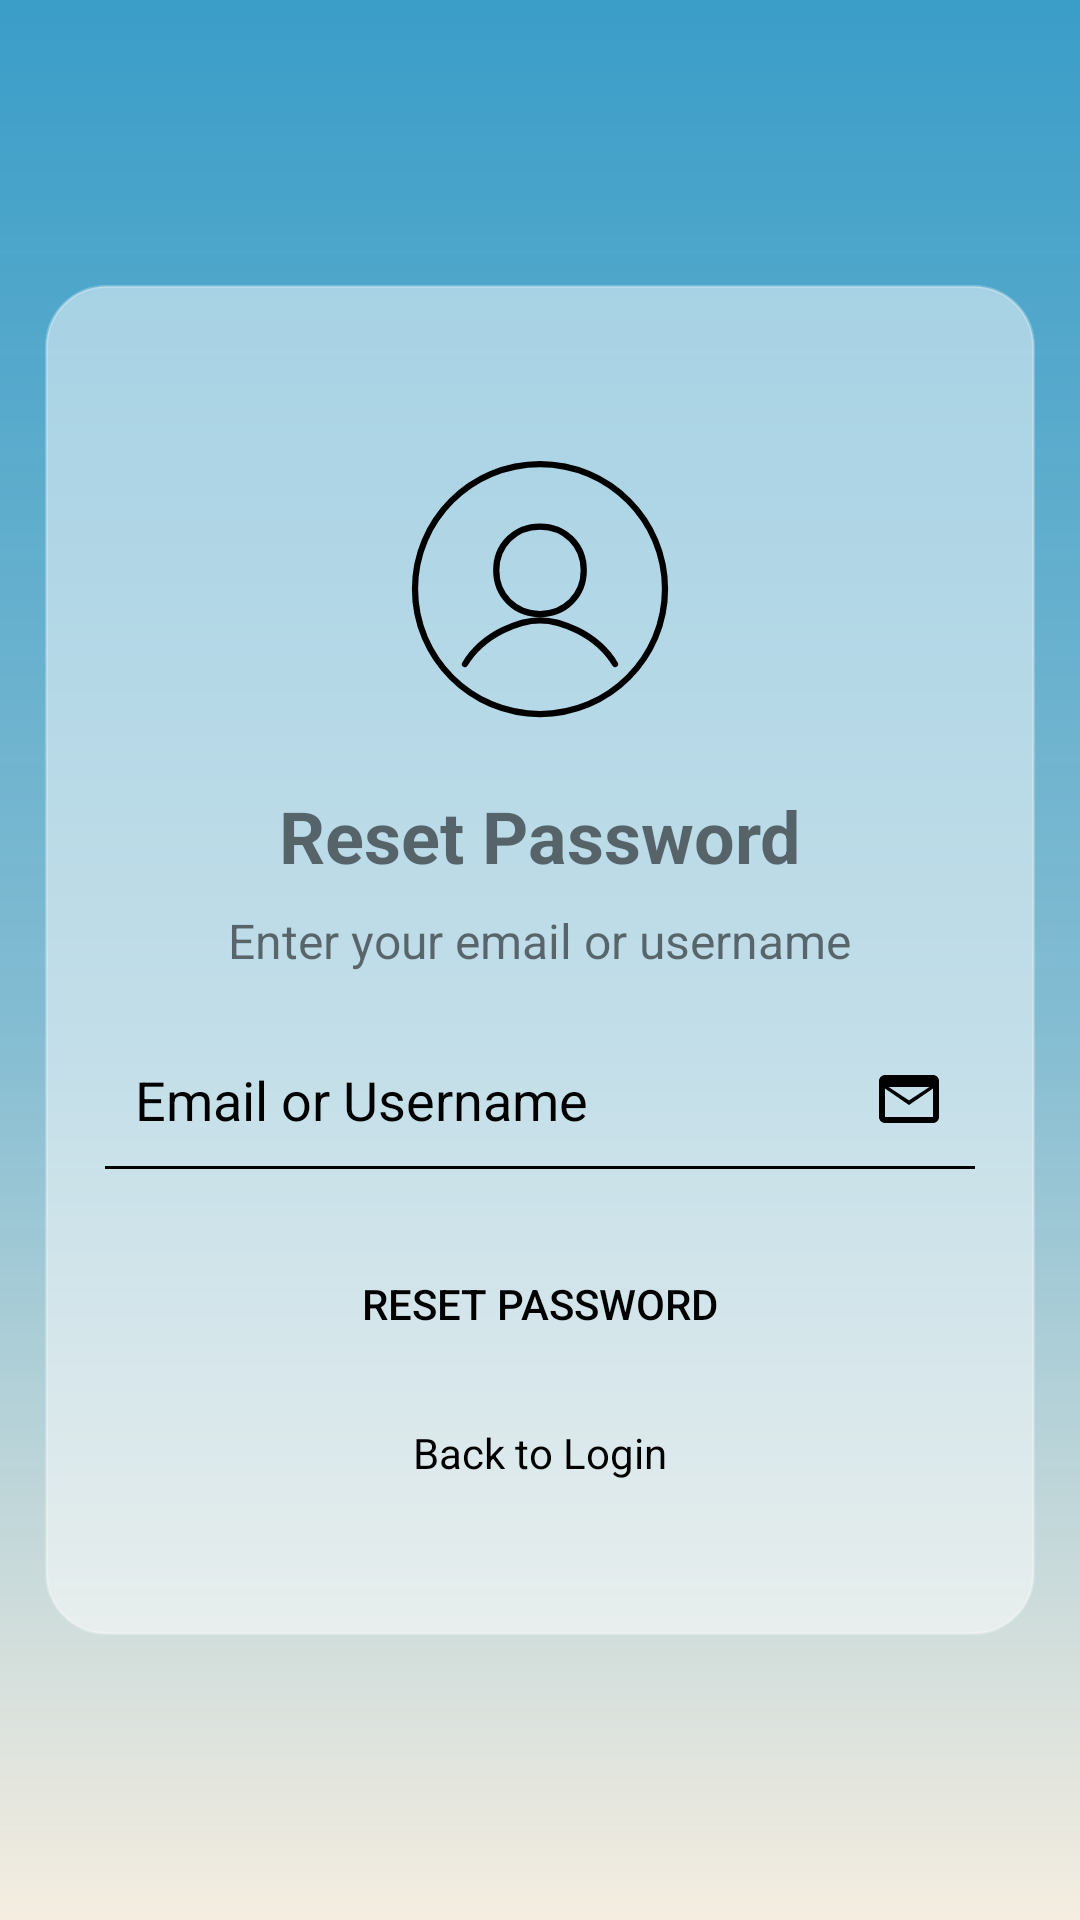

Icons on this 1080px x 1920px Android screen, each with the point to tap as point (x, y):
user: point (540, 589)
